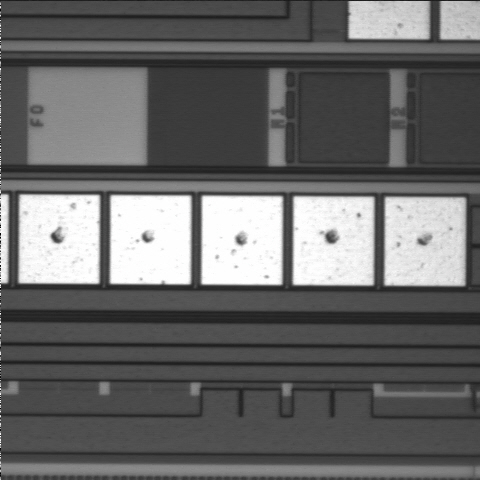pad: (201, 196, 283, 285), (19, 195, 100, 284), (110, 195, 191, 284), (293, 196, 374, 285), (385, 197, 465, 286)
